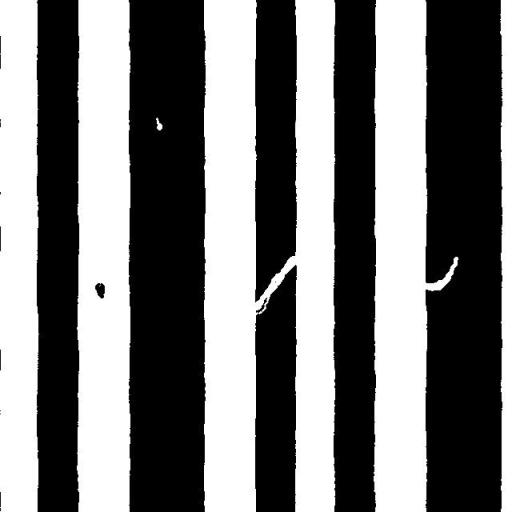copper: (87, 275, 112, 306)
mousebite: (414, 249, 466, 298)
open: (235, 248, 304, 323)
pin-hole: (148, 110, 170, 138)
